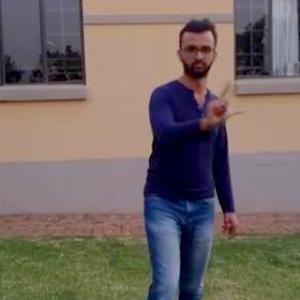land_hand: (200, 73, 248, 131)
